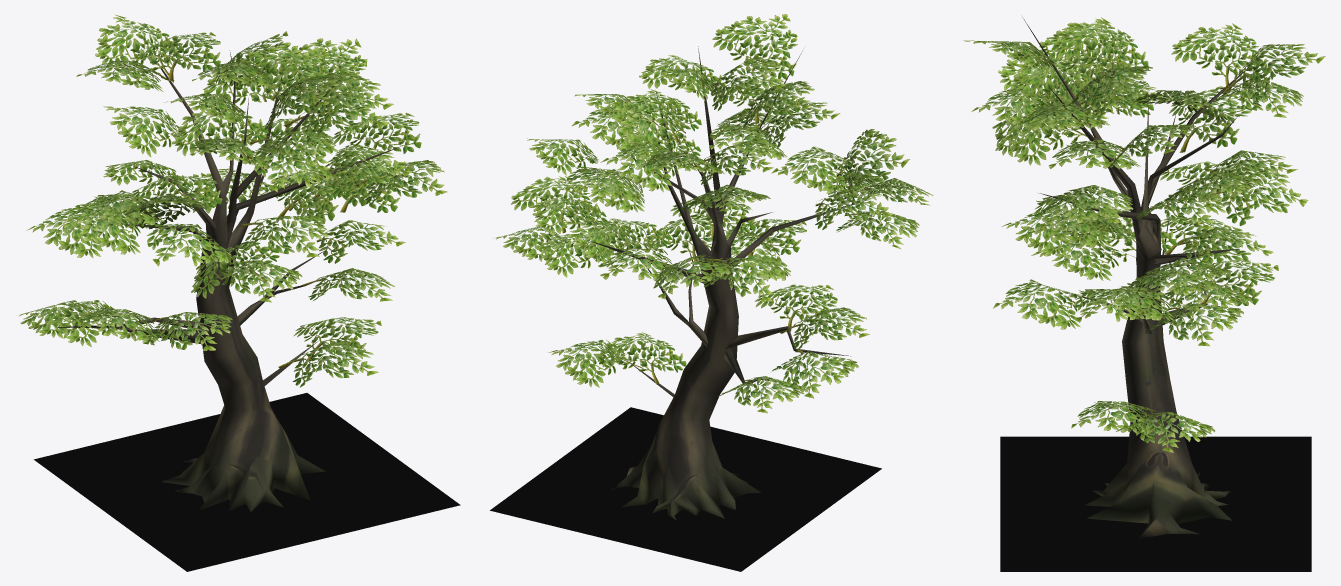
File: jj_tyshu07.FBX
The picture shows the model from 3 angles, left to right: view 1: azimuth 30°, elevation 25°; view 2: azimuth 150°, elevation 25°; view 3: azimuth 270°, elevation 25°; orthographic projection. The views are drawn at different scales.
Parts seen in each view (by area): view 1: jj_tyshu07, shadow, jj_tyshu07_1; view 2: jj_tyshu07, shadow, jj_tyshu07_1; view 3: jj_tyshu07, shadow, jj_tyshu07_1.
Boxes of the visible parts, x1,y1,x2,y2 form: jj_tyshu07: [19, 14, 447, 387]; shadow: [33, 393, 460, 571]; jj_tyshu07_1: [57, 46, 401, 511]; jj_tyshu07: [493, 14, 933, 413]; shadow: [490, 407, 881, 571]; jj_tyshu07_1: [587, 46, 872, 520]; jj_tyshu07: [963, 17, 1325, 452]; shadow: [1000, 436, 1311, 571]; jj_tyshu07_1: [1022, 17, 1250, 538].
Bounding box in the file's own units: 485 × 500 × 359.
Materials: 3 (3 with a texture image).
